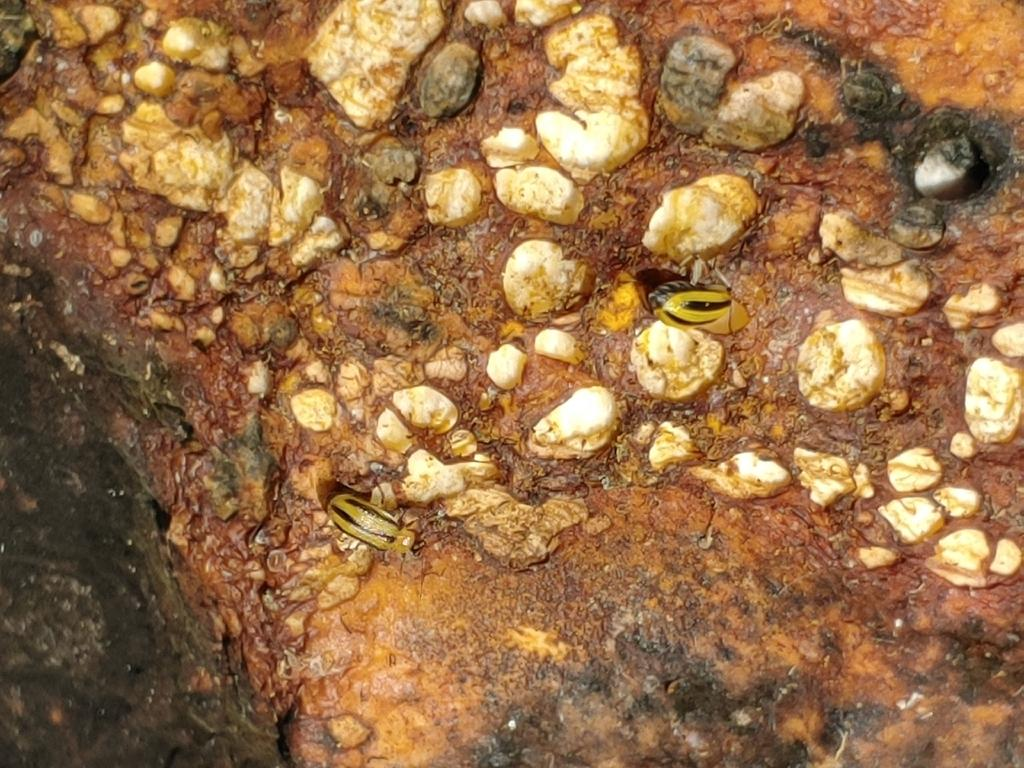potato_beetle: (623, 244, 760, 346)
